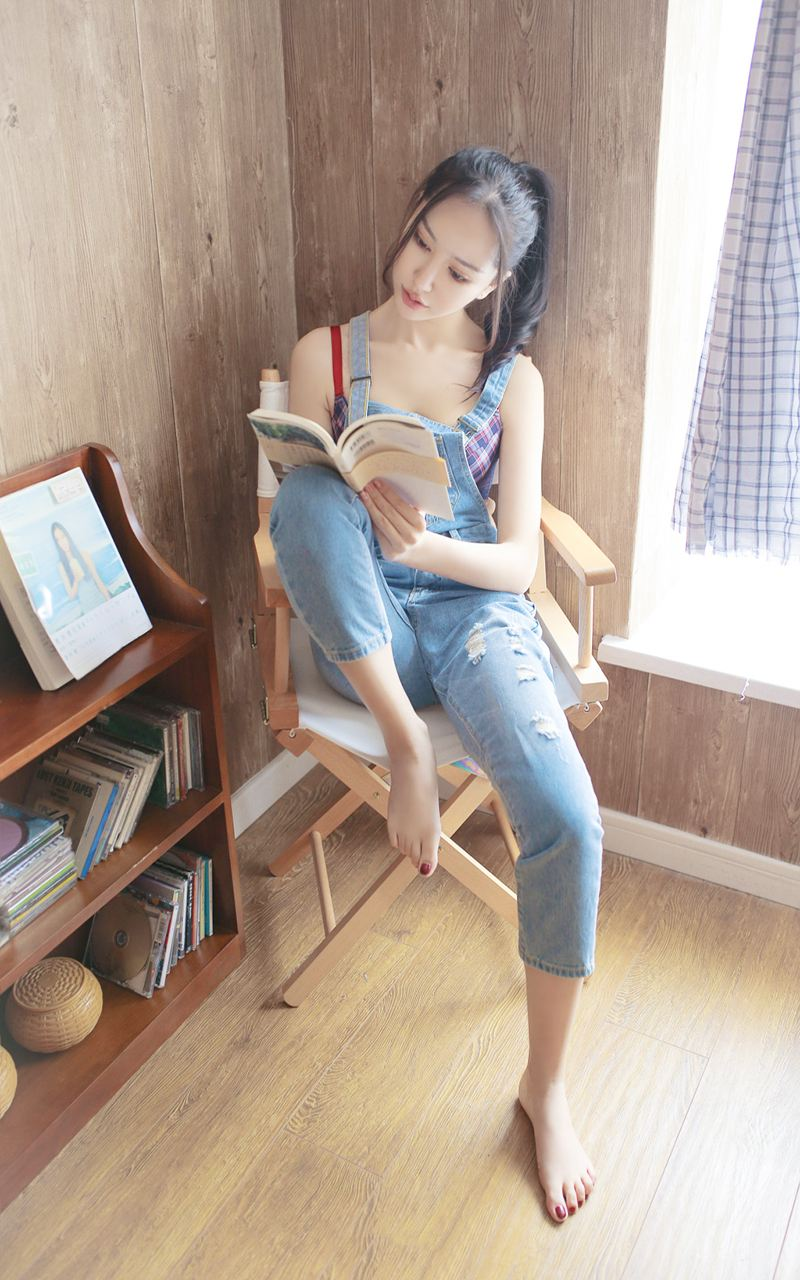person: (107, 145, 722, 1158)
